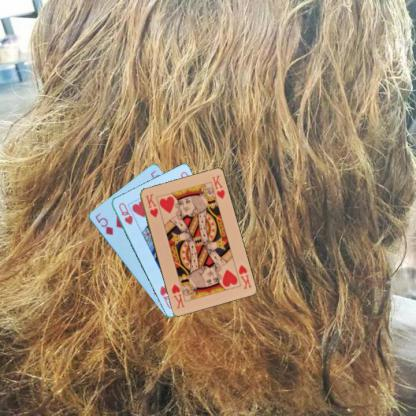5d: (92, 210, 114, 236)
Kh: (142, 192, 159, 219), (236, 262, 252, 290)
Qh: (116, 200, 134, 226)
